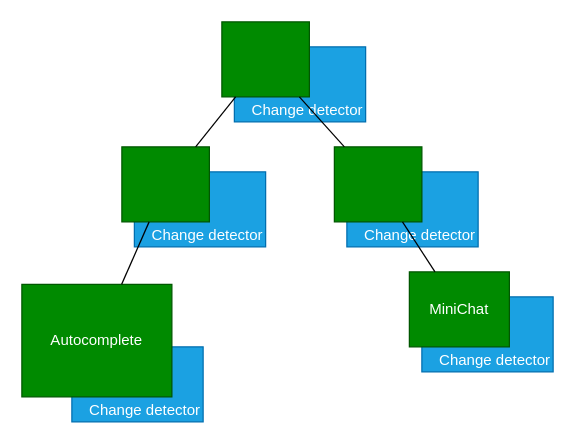
Some shapes in this 575 by 444 pixel diagram are drawn without their labels. Each missing label, with the centre of its shape:
"App" belongs at [265,59].
"Pagina 1" belongs at [165,184].
"Pagina 2" belongs at [377,184].
